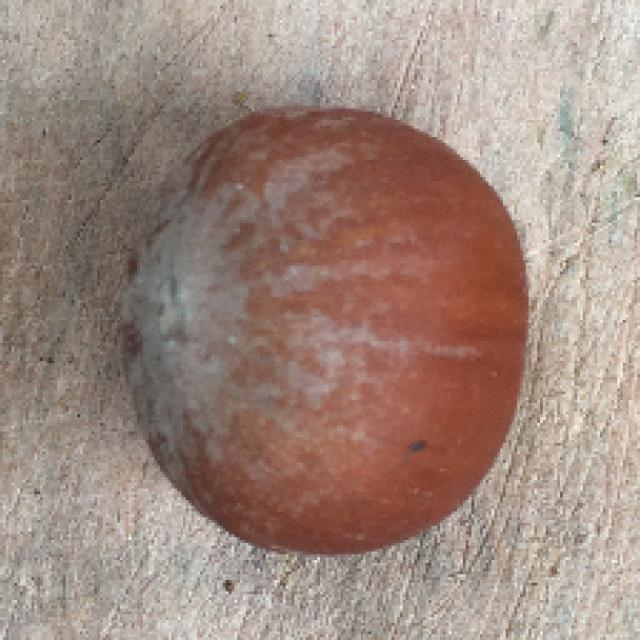QualityHazelnut: (120, 102, 529, 556)
